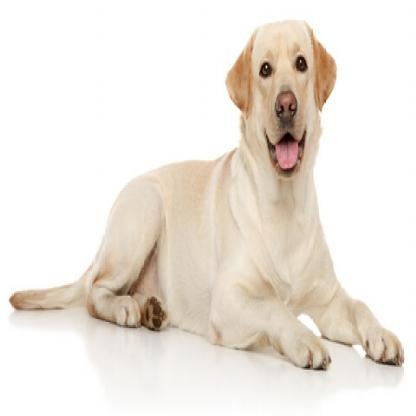dog: (11, 19, 407, 366)
